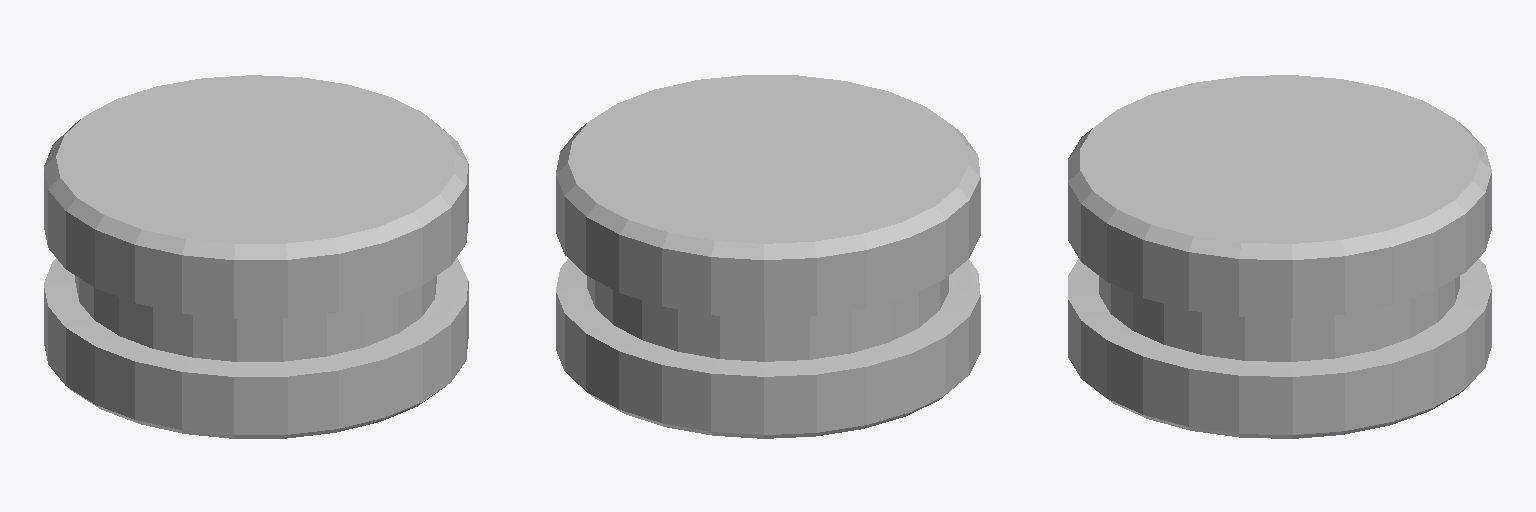
File: PlayerSpiderN0.0.0.obj
3 views of the same model, side by side, from view 1: azimuth 30°, elevation 25°; view 2: azimuth 150°, elevation 25°; view 3: azimuth 270°, elevation 25° (orthographic).
Visible parts, largest first — view 1: Cylinder; view 2: Cylinder; view 3: Cylinder.
Boxes of the visible parts, x1,y1,x2,y2 form: Cylinder: [44, 75, 468, 438]; Cylinder: [556, 75, 980, 438]; Cylinder: [1068, 75, 1491, 438].
Size of the model in its own units: 2 by 1 by 1.99.